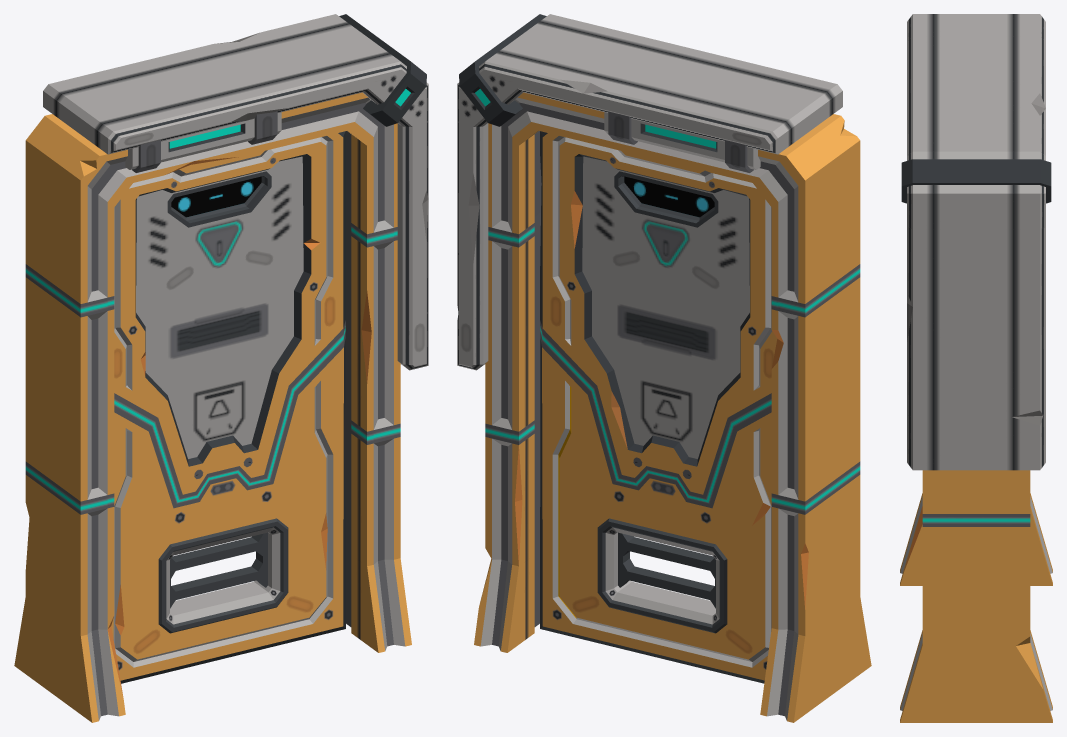
The model's file is SM_Bld_Door_Single_01.fbx.
The picture shows the model from 3 angles, left to right: view 1: azimuth 30°, elevation 25°; view 2: azimuth 150°, elevation 25°; view 3: azimuth 270°, elevation 25°; orthographic projection.
Parts seen in each view (by area): view 1: SM_Bld_Door_Single_01; view 2: SM_Bld_Door_Single_01; view 3: SM_Bld_Door_Single_01.
Boxes of the visible parts, left/top/right/bottom form: SM_Bld_Door_Single_01: left=14, top=14, right=428, bottom=722; SM_Bld_Door_Single_01: left=457, top=14, right=871, bottom=722; SM_Bld_Door_Single_01: left=900, top=14, right=1052, bottom=722.
Bounding box in the file's own units: 136 × 220 × 53.53.
